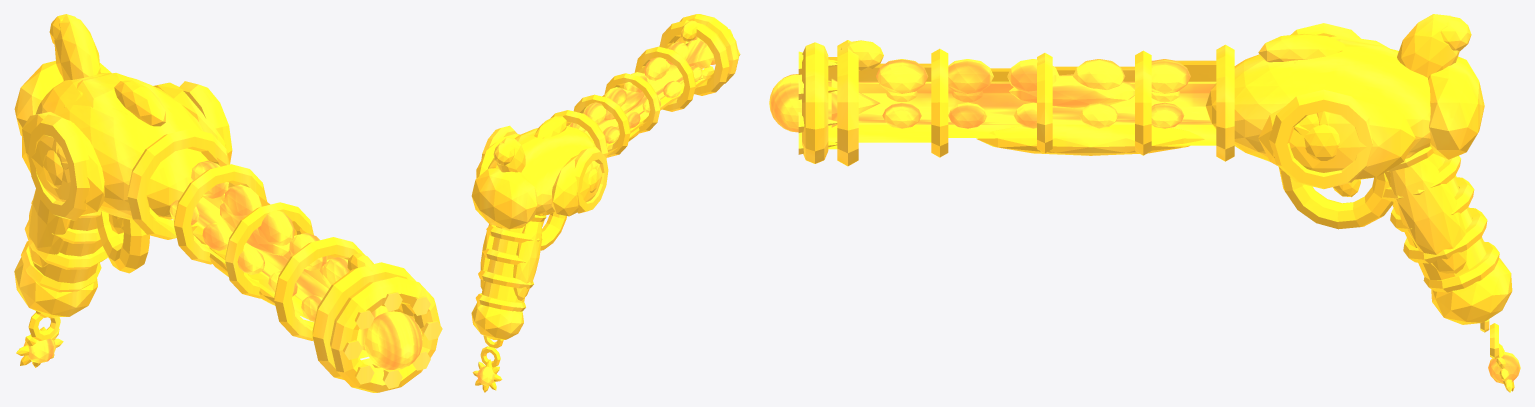
Rendered from flame_pistol.glb.
3 renders of one model, left to right at view 1: azimuth 30°, elevation 25°; view 2: azimuth 150°, elevation 25°; view 3: azimuth 270°, elevation 25°, orthographic. The views are drawn at different scales.
Parts seen in each view (by area): view 1: metal, glow; view 2: metal, glow; view 3: metal, glow.
Boxes of the visible parts, box(x1,y1,x2,y2) form: metal: box(14, 14, 442, 392); glow: box(24, 160, 422, 370); metal: box(471, 14, 740, 392); glow: box(477, 36, 715, 386); metal: box(798, 14, 1514, 392); glow: box(769, 59, 1520, 383).
Size of the model in its own units: 0.116 by 0.2527 by 0.458.
2 materials, 2 textured.
